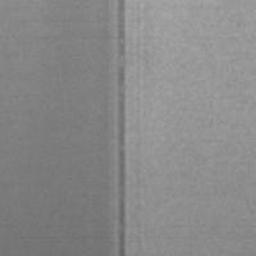Welding line: (115, 0, 128, 256)
